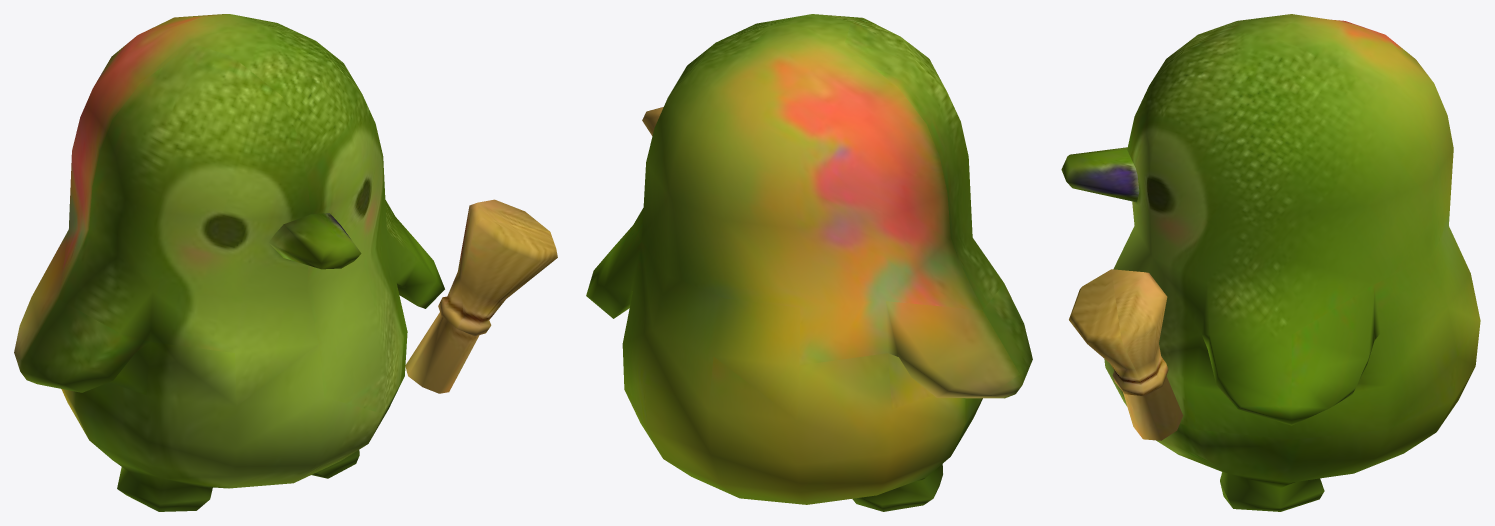
File: penguin-10-34-matcha-clay-penguin.gltf
3 views of the same model, side by side, from view 1: azimuth 30°, elevation 25°; view 2: azimuth 150°, elevation 25°; view 3: azimuth 270°, elevation 25° (orthographic). The views are drawn at different scales.
Parts seen in each view (by area): view 1: penguin-10-34-matcha-clay-penguin; view 2: penguin-10-34-matcha-clay-penguin; view 3: penguin-10-34-matcha-clay-penguin.
Part boxes in pixels (x1,y1,x2,y2): penguin-10-34-matcha-clay-penguin: [14, 14, 557, 511]; penguin-10-34-matcha-clay-penguin: [586, 14, 1032, 511]; penguin-10-34-matcha-clay-penguin: [1061, 14, 1480, 511].
Size of the model in its own units: 0.2 by 0.1886 by 0.1634.
Materials: 1 (1 with a texture image).
